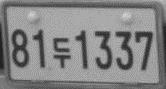1: (31, 28, 46, 69), (74, 28, 88, 69)
3: (114, 30, 133, 70), (93, 30, 112, 69)
7: (134, 30, 153, 70)
8: (11, 28, 29, 67)
두: (52, 37, 72, 69)
